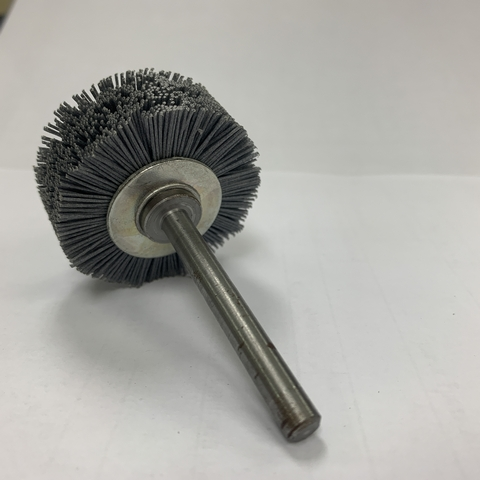Wheel Brush: (35, 61, 354, 441), (17, 50, 325, 338), (26, 67, 298, 317)
